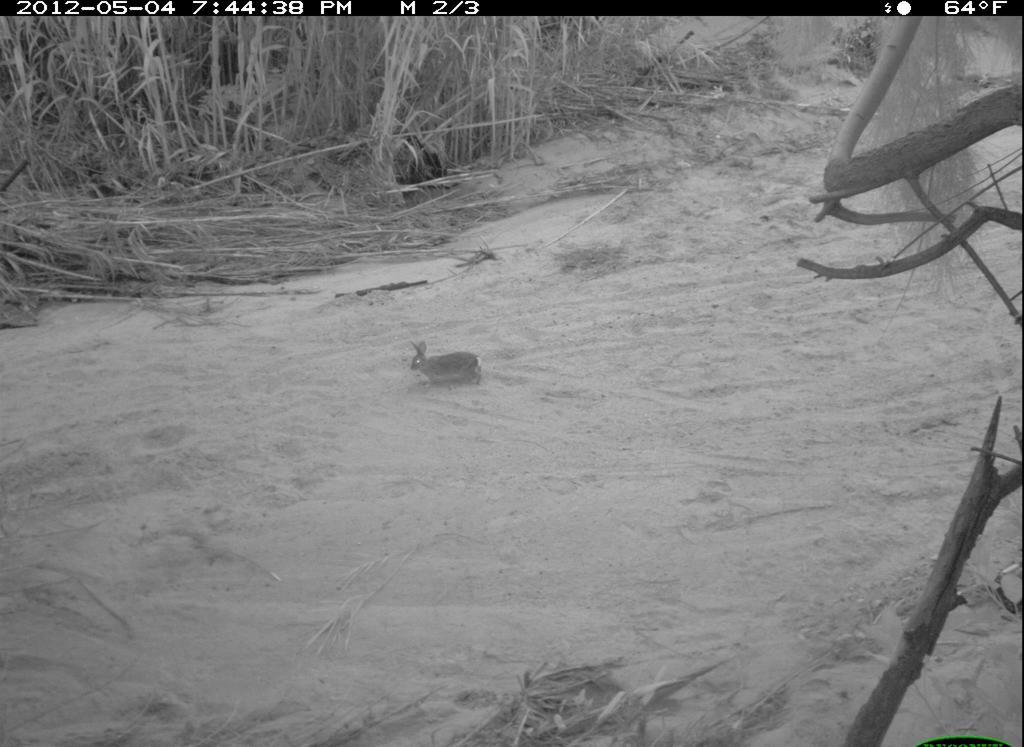rabbit: (399, 329, 488, 392)
